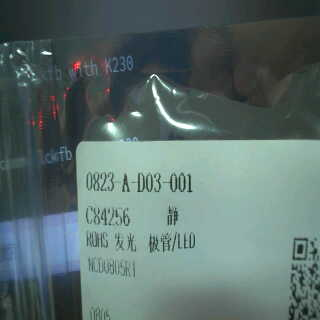LED: (108, 227, 201, 255)
